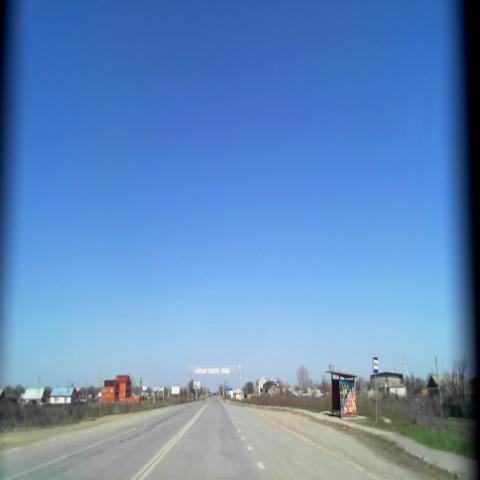5_16: (373, 354, 378, 375)
